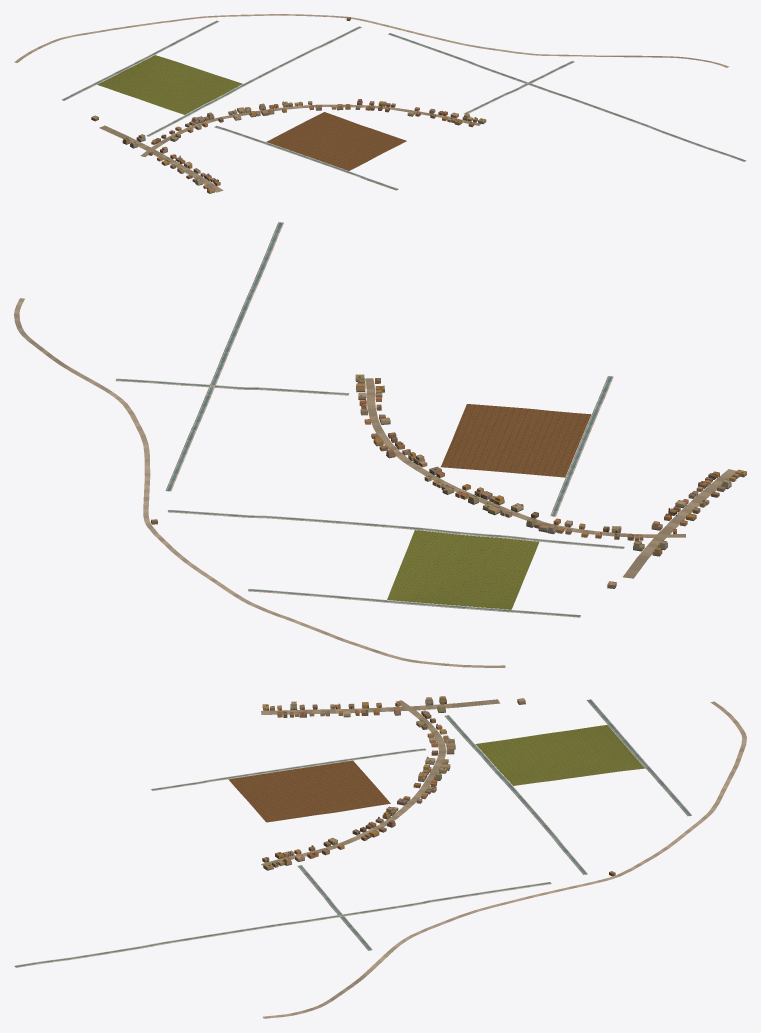
File: uruk_quarter_14.glb
The picture shows the model from 3 angles, top to bottom: view 1: azimuth 30°, elevation 25°; view 2: azimuth 150°, elevation 25°; view 3: azimuth 270°, elevation 25°; orthographic projection. The views are drawn at different scales.
Visible parts, largest first — view 1: uruk_quarter_14; view 2: uruk_quarter_14; view 3: uruk_quarter_14.
Part boxes in pixels (<box>): uruk_quarter_14: <box>14,14,746,193</box>; uruk_quarter_14: <box>14,222,746,667</box>; uruk_quarter_14: <box>14,696,746,1018</box>.
Size of the model in its own units: 1028 by 16.08 by 995.
Materials: 18 (7 with a texture image).
